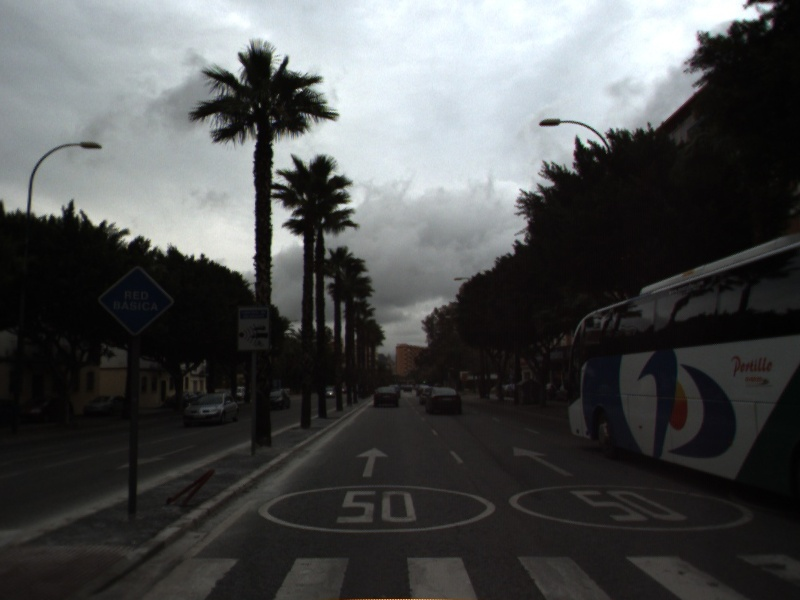STRAIGHT: (511, 444, 576, 479), (353, 445, 391, 479)
